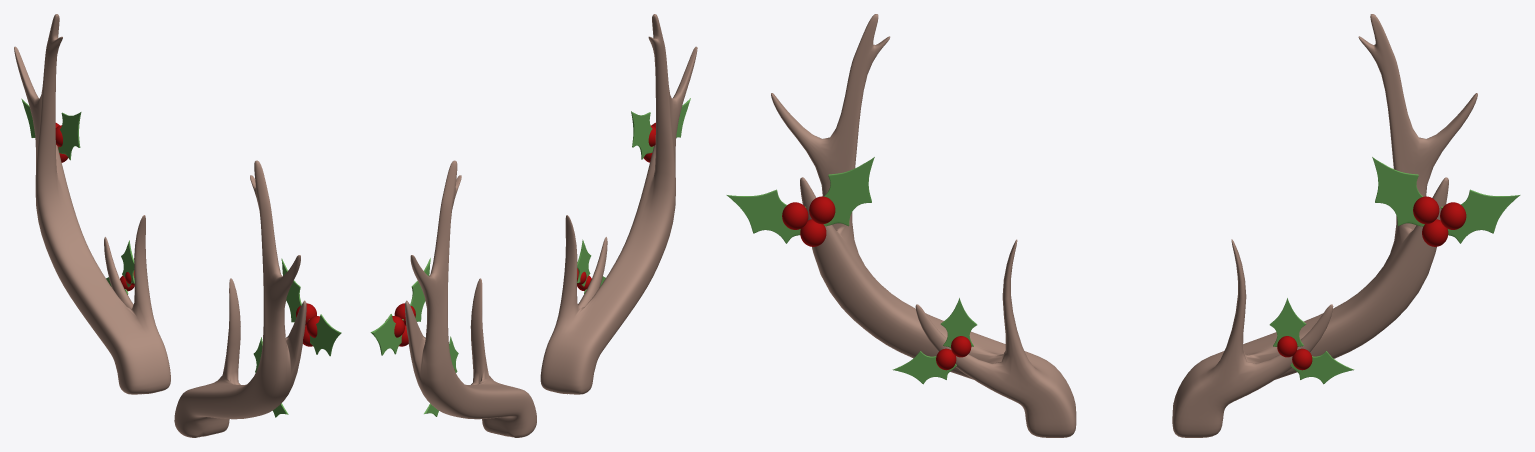
Rendered from deer.fbx.
3 renders of one model, left to right at view 1: azimuth 30°, elevation 25°; view 2: azimuth 150°, elevation 25°; view 3: azimuth 270°, elevation 25°, orthographic. The views are drawn at different scales.
Parts seen in each view (by area): view 1: pCube3, polySurface15, polySurface14; view 2: pCube3, polySurface15, polySurface14; view 3: pCube3, polySurface15, polySurface14.
Boxes of the visible parts, box(x1,y1,x2,y2) form: pCube3: box(14, 14, 306, 437); polySurface15: box(21, 98, 341, 417); polySurface14: box(55, 123, 319, 346); pCube3: box(405, 14, 697, 437); polySurface15: box(370, 98, 690, 416); polySurface14: box(386, 122, 655, 369); pCube3: box(771, 14, 1477, 437); polySurface15: box(726, 157, 1520, 384); polySurface14: box(782, 196, 1466, 370).
Size of the model in its own units: 0.6504 by 3.56 by 6.33.
